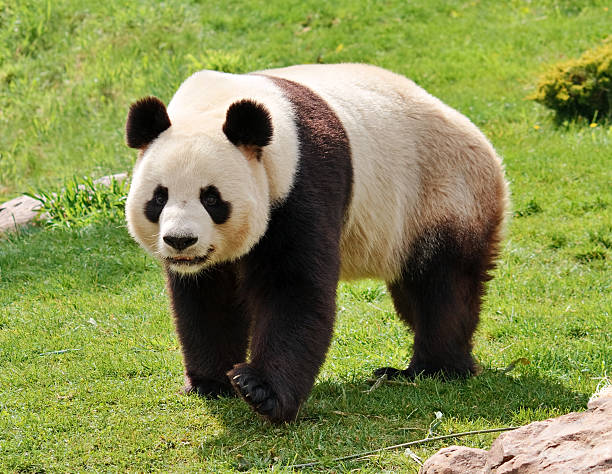panda: (89, 74, 300, 288)
